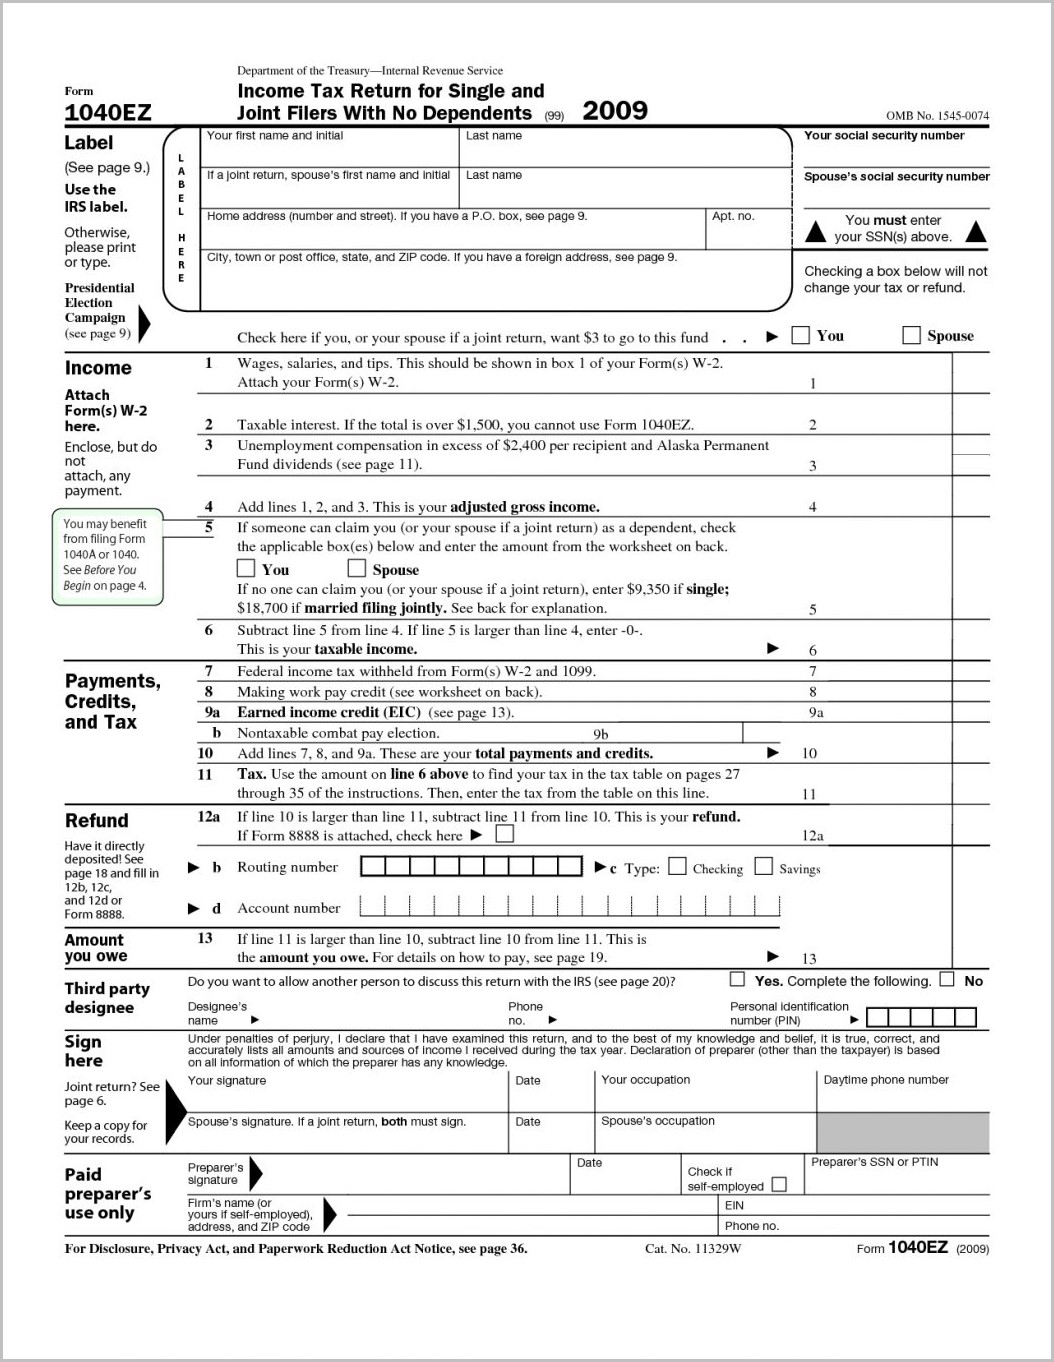checkbox: (787, 323, 813, 346), (344, 555, 369, 578), (664, 853, 689, 877), (727, 967, 752, 991), (933, 967, 959, 991), (899, 321, 923, 344), (233, 556, 258, 579), (766, 1172, 791, 1195), (751, 853, 776, 876), (492, 821, 516, 844)
textbox: (195, 243, 795, 314), (197, 202, 710, 253), (802, 512, 958, 627), (453, 121, 795, 172), (453, 163, 795, 213), (185, 1107, 512, 1157), (250, 1151, 577, 1202), (195, 121, 463, 174), (794, 886, 960, 971), (195, 163, 465, 213), (341, 1188, 726, 1223), (338, 1207, 723, 1241), (354, 889, 787, 919), (588, 1066, 822, 1119), (588, 1106, 822, 1157), (811, 1064, 996, 1117), (801, 1148, 993, 1198), (800, 612, 959, 668), (714, 1190, 995, 1220), (718, 1207, 999, 1238), (799, 717, 959, 768), (796, 759, 956, 810), (799, 799, 958, 850), (802, 349, 956, 399), (805, 389, 959, 439), (803, 431, 957, 481), (805, 472, 959, 522), (945, 835, 1000, 972), (356, 851, 587, 881), (565, 1146, 686, 1198), (943, 512, 996, 624), (703, 199, 796, 254), (504, 1065, 599, 1117), (505, 1106, 601, 1157), (805, 656, 959, 688), (804, 675, 958, 708), (805, 693, 959, 725), (609, 715, 747, 748), (862, 1000, 983, 1031), (945, 470, 995, 521), (945, 614, 994, 666), (946, 757, 994, 810), (947, 798, 995, 851), (947, 348, 996, 399), (947, 387, 996, 438), (949, 717, 996, 771), (948, 428, 1001, 459), (946, 447, 999, 478), (949, 656, 996, 687), (946, 677, 993, 708), (946, 696, 993, 727)
textline: (185, 1071, 502, 1115), (250, 996, 501, 1031), (800, 127, 996, 170), (799, 169, 995, 212), (541, 997, 726, 1035)
